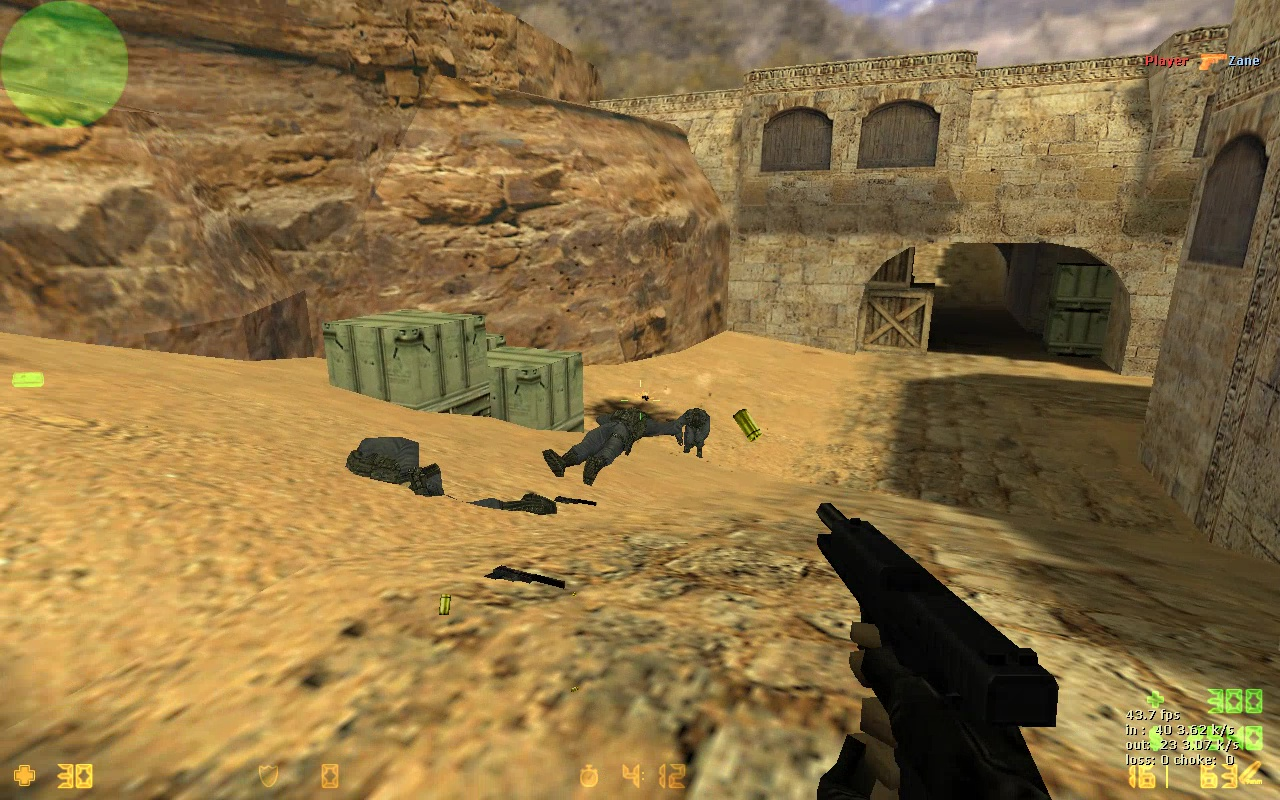ct: (677, 405, 717, 461)
dead: (538, 412, 677, 478)
